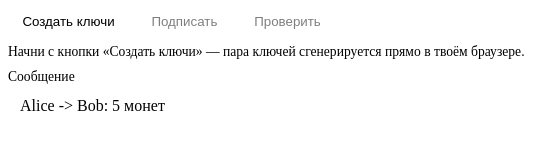
Test: до создания ключей «Подписать» и «Проверить» неактивны; ключи показывают публичный укороченно
Expected: the button "Подписать" is disabled, [137,8,232,34]
Expected: the button "Проверить" is disabled, [240,8,335,34]
Step 1. Click the button "Создать ключи" → {"x": 68, "y": 21}, box [8,8,129,34]
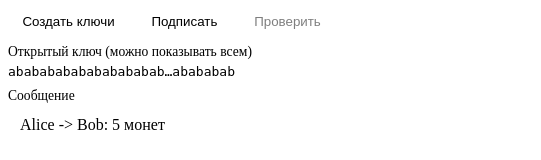
Expected: the text "Открытый ключ (можно показывать всем)" is shown, [8,44,252,59]
Expected: the text "ab" shows "…", [8,64,235,79]
Expected: the button "Подписать" is enabled, [137,8,232,34]
